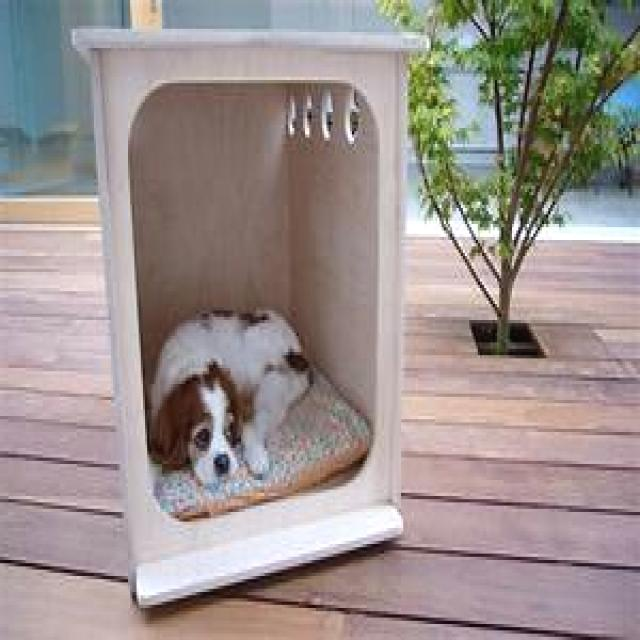KOPEK: (150, 296, 316, 485)
